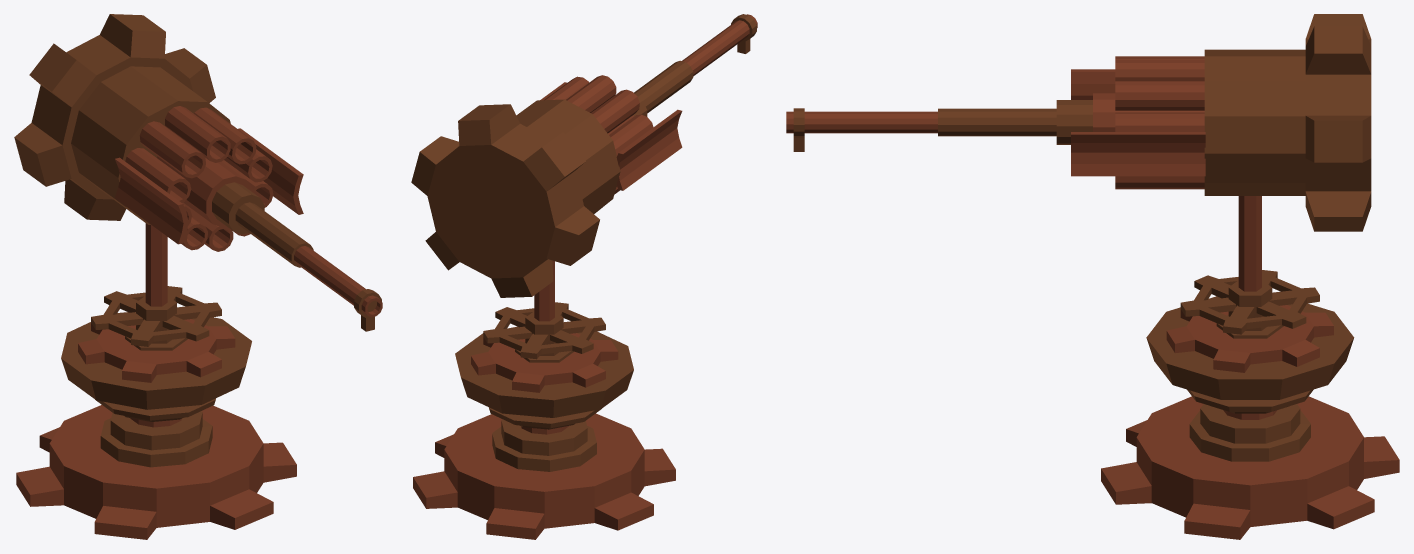
The model's file is Gun_5.glb.
3 views of the same model, side by side, from view 1: azimuth 30°, elevation 25°; view 2: azimuth 150°, elevation 25°; view 3: azimuth 270°, elevation 25° (orthographic). The views are drawn at different scales.
Parts seen in each view (by area): view 1: Gun_5_Gun, Gun_5_Base, Gun_5_Mid; view 2: Gun_5_Gun, Gun_5_Base, Gun_5_Mid; view 3: Gun_5_Gun, Gun_5_Base, Gun_5_Mid.
Part boxes in pixels (<box>): Gun_5_Gun: <box>14,14,382,331</box>; Gun_5_Base: <box>16,312,296,539</box>; Gun_5_Mid: <box>78,223,235,382</box>; Gun_5_Gun: <box>411,14,757,297</box>; Gun_5_Base: <box>413,326,675,539</box>; Gun_5_Mid: <box>471,260,618,392</box>; Gun_5_Gun: <box>786,14,1371,231</box>; Gun_5_Base: <box>1101,296,1399,539</box>; Gun_5_Mid: <box>1166,196,1333,372</box>.
Bounding box in the file's own units: 1.38 × 2.32 × 2.83.
